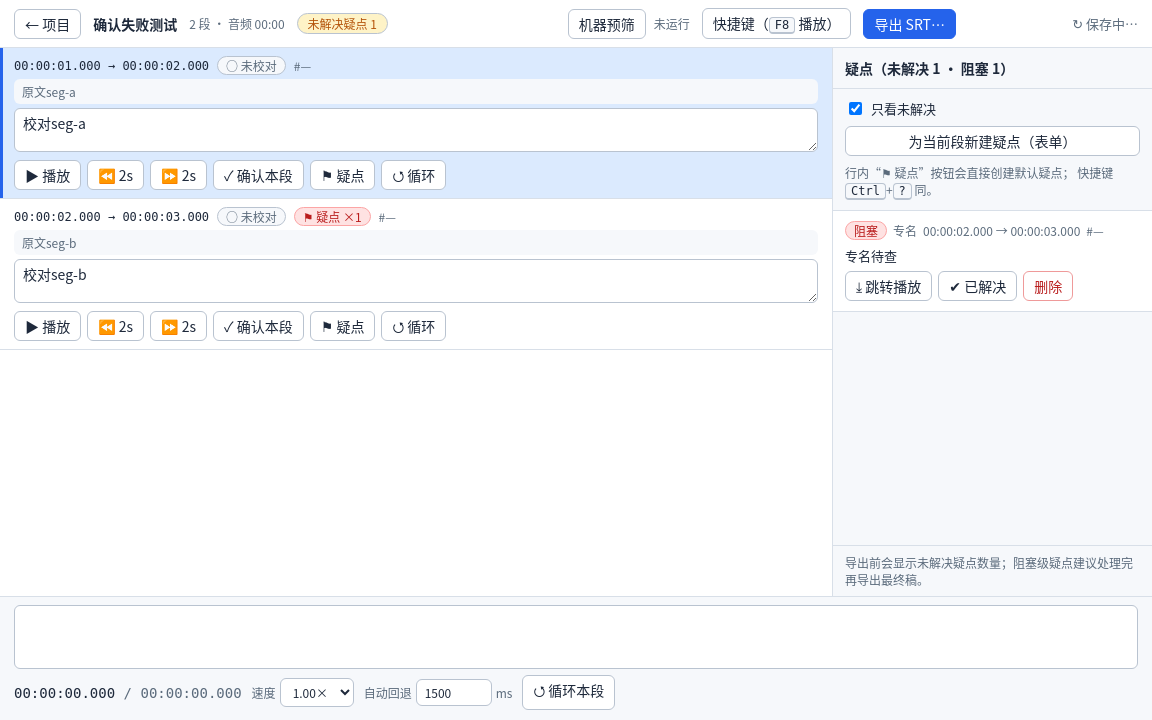
Test: Workbench 原子确认失败路径（AC-068） › 失败：不自动重试、段与疑点保持原状态、错误可见可重试；再次确认成功后原子更新
Click the 2nd button "✓ 确认本段".
click(258, 326)  # box [213,311,304,341]
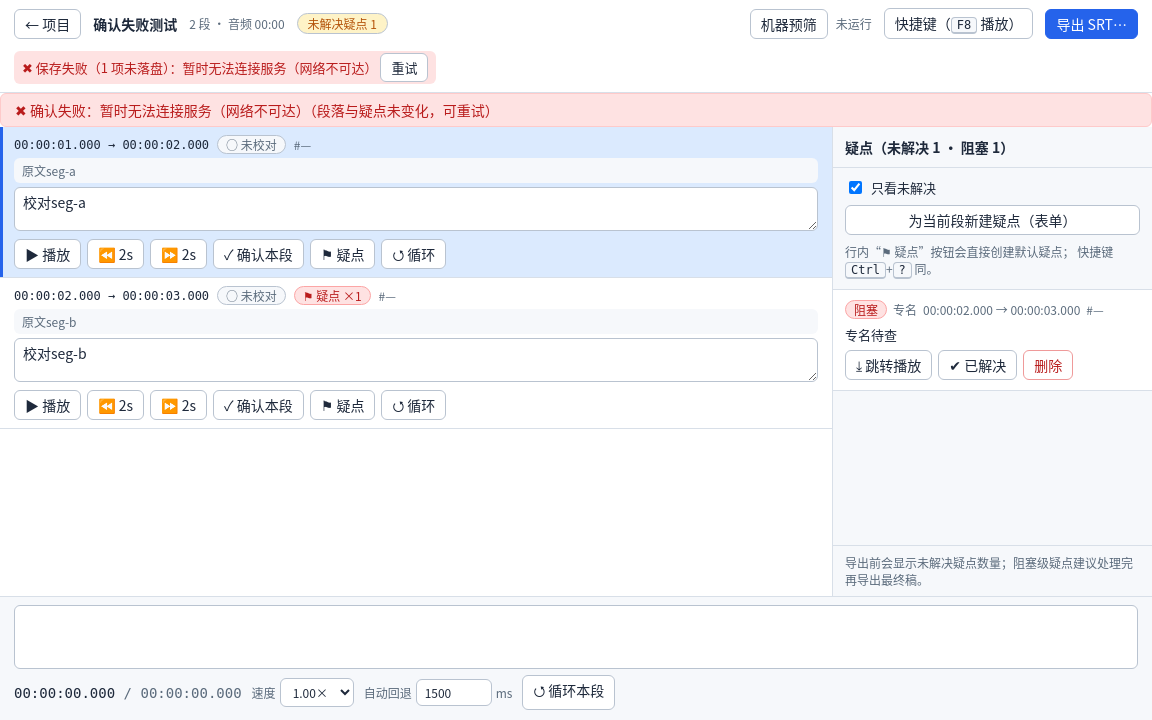
Expected: the text "⚑ 疑点 ×1" is shown, [294,286,371,305]
Result: the message shows "确认失败" at [30,100,499,120]
Result: the message shows "未变化，可重试" at [30,100,499,120]
Click the 2nd button "✓ 确认本段".
click(258, 405)  # box [213,390,304,420]
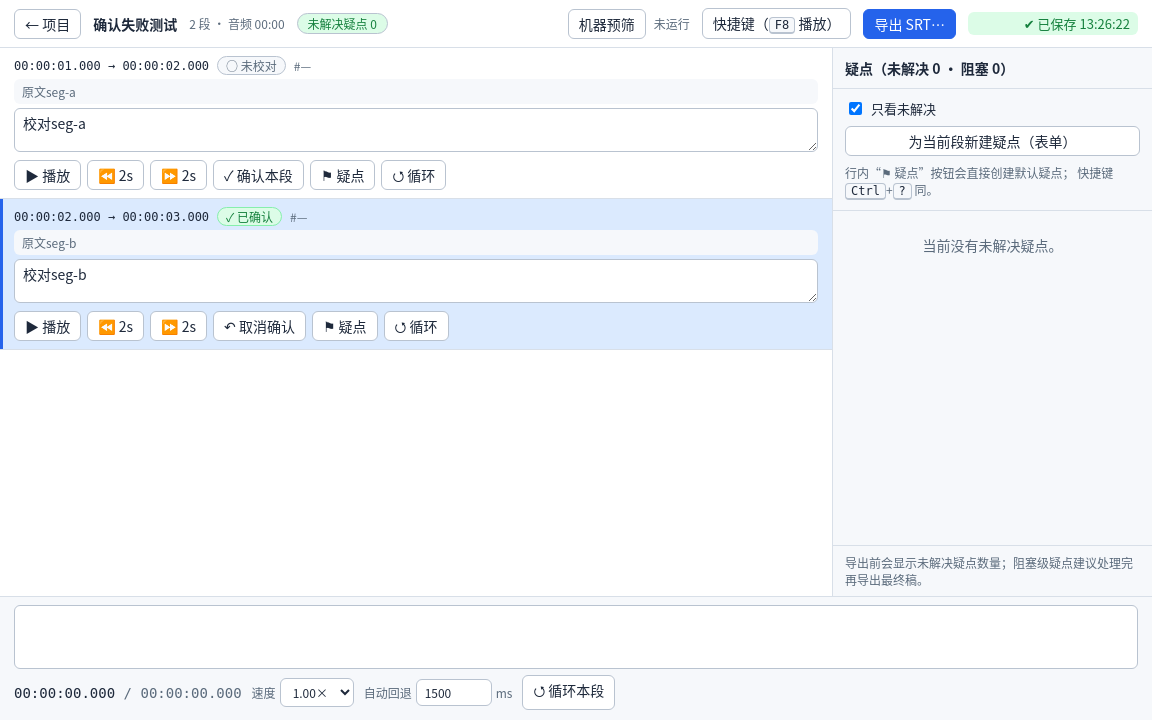
Result: the button "↶ 取消确认" is shown at [213,311,306,341]
Result: the text "⚑ 疑点 ×" is gone
Result: the text "专名待查" is gone
